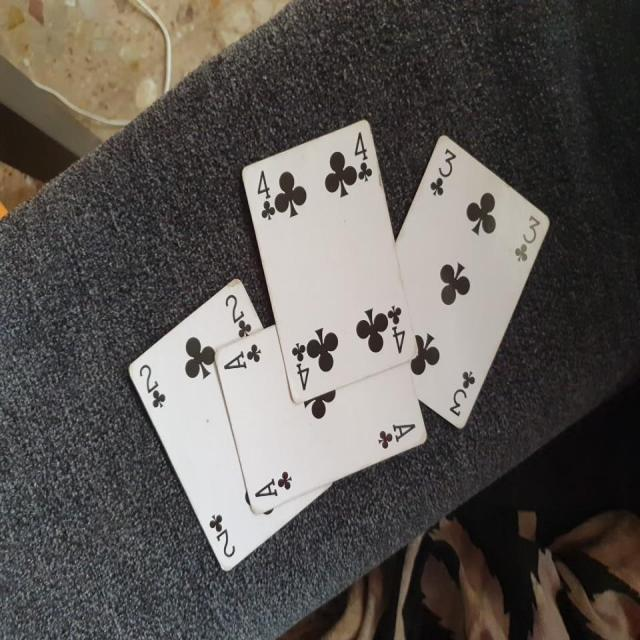2 Trefoils: (128, 276, 332, 574)
3 Trefoils: (396, 132, 551, 428)
4 Trefoils: (241, 117, 418, 401)
A Trefoils: (214, 321, 431, 512)
